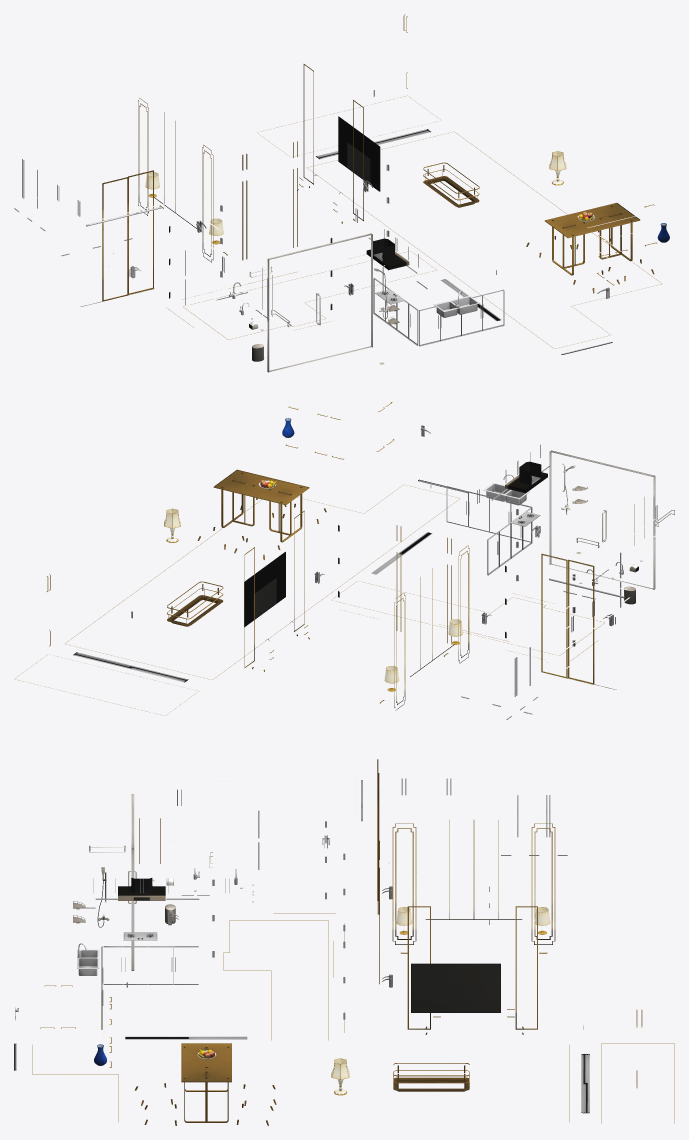
Rendered from house_other.glb.
3 views of the same model, one above another, from view 1: azimuth 30°, elevation 25°; view 2: azimuth 150°, elevation 25°; view 3: azimuth 270°, elevation 25° (orthographic). The views are drawn at different scales.
Visible parts, largest first — view 1: AAA_metal_02, AAA_WWW_metal_01, RRR_WWW_model_combine, AAA_model_MetalProduct, AAA_model_kitchenware, EEE_model_Luminous_A; view 2: AAA_metal_02, AAA_WWW_metal_01, RRR_WWW_model_combine, AAA_model_MetalProduct, AAA_model_kitchenware, EEE_model_Luminous_A; view 3: AAA_metal_02, RRR_WWW_model_combine, AAA_WWW_metal_01, AAA_model_kitchenware, EEE_model_Luminous_A, AAA_model_MetalProduct.
Boxes of the visible parts, left/top/right/bottom form: AAA_metal_02: left=80, top=14, right=661, bottom=348; AAA_WWW_metal_01: left=14, top=90, right=612, bottom=354; RRR_WWW_model_combine: left=338, top=116, right=669, bottom=242; AAA_model_MetalProduct: left=249, top=233, right=399, bottom=372; AAA_model_kitchenware: left=366, top=238, right=479, bottom=317; EEE_model_Luminous_A: left=29, top=151, right=674, bottom=325; AAA_metal_02: left=15, top=402, right=644, bottom=715; AAA_WWW_metal_01: left=73, top=425, right=657, bottom=719; RRR_WWW_model_combine: left=167, top=418, right=294, bottom=627; AAA_model_MetalProduct: left=549, top=450, right=674, bottom=604; AAA_model_kitchenware: left=483, top=461, right=547, bottom=526; EEE_model_Luminous_A: left=164, top=401, right=658, bottom=682; AAA_metal_02: left=32, top=759, right=674, bottom=1125; RRR_WWW_model_combine: left=94, top=963, right=500, bottom=1094; AAA_WWW_metal_01: left=14, top=778, right=589, bottom=1113; AAA_model_kitchenware: left=77, top=877, right=165, bottom=975; EEE_model_Luminous_A: left=32, top=748, right=550, bottom=1079; AAA_model_MetalProduct: left=73, top=794, right=212, bottom=970.
Size of the model in its own units: 52.09 by 12.93 by 58.48.
Materials: 6 (6 with a texture image).
